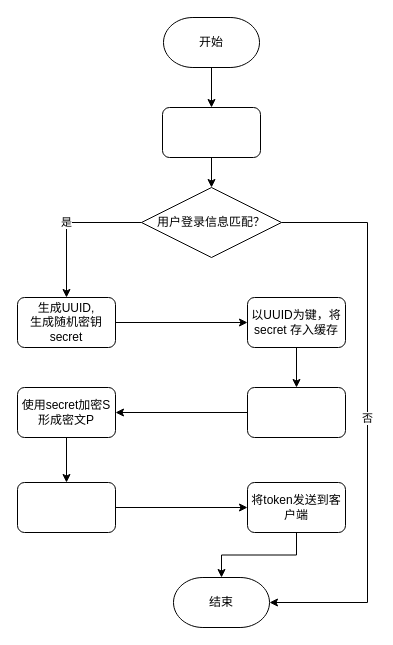
This 393x645 diagram has some shape labels left out. The centre of each missing label's shape, as x and y in pixels:
将P与UUID拼接，加入到token中: [66,507]
拼接用户身份、用户ID、用户权限为 S: [296,412]
查找用户信息: [211,132]
